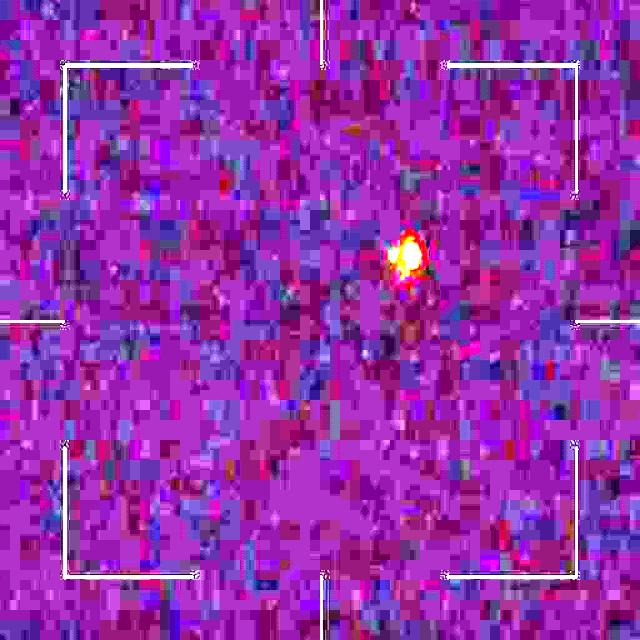bird: (390, 236, 422, 289)
